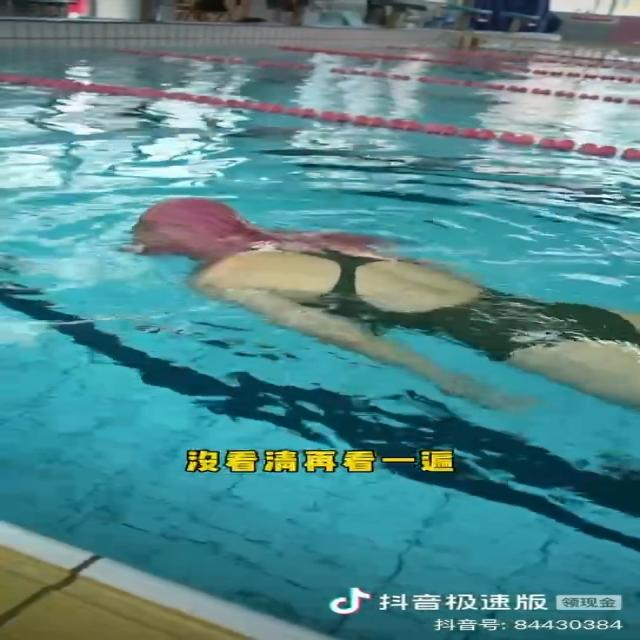Drowning: (126, 195, 640, 421)
